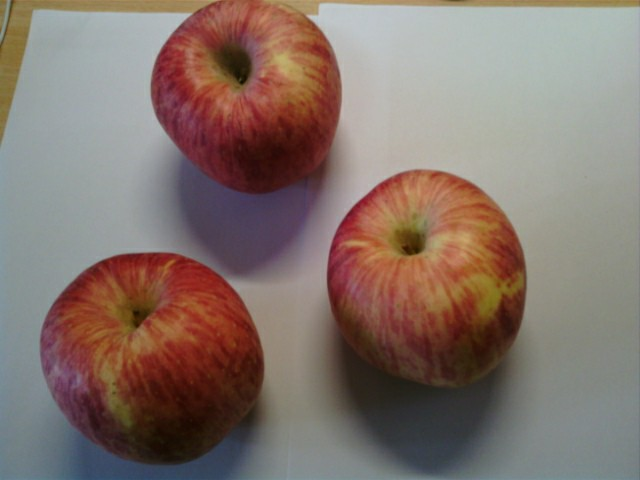normal_apple: (44, 251, 265, 465), (326, 171, 529, 392), (152, 1, 343, 194)
